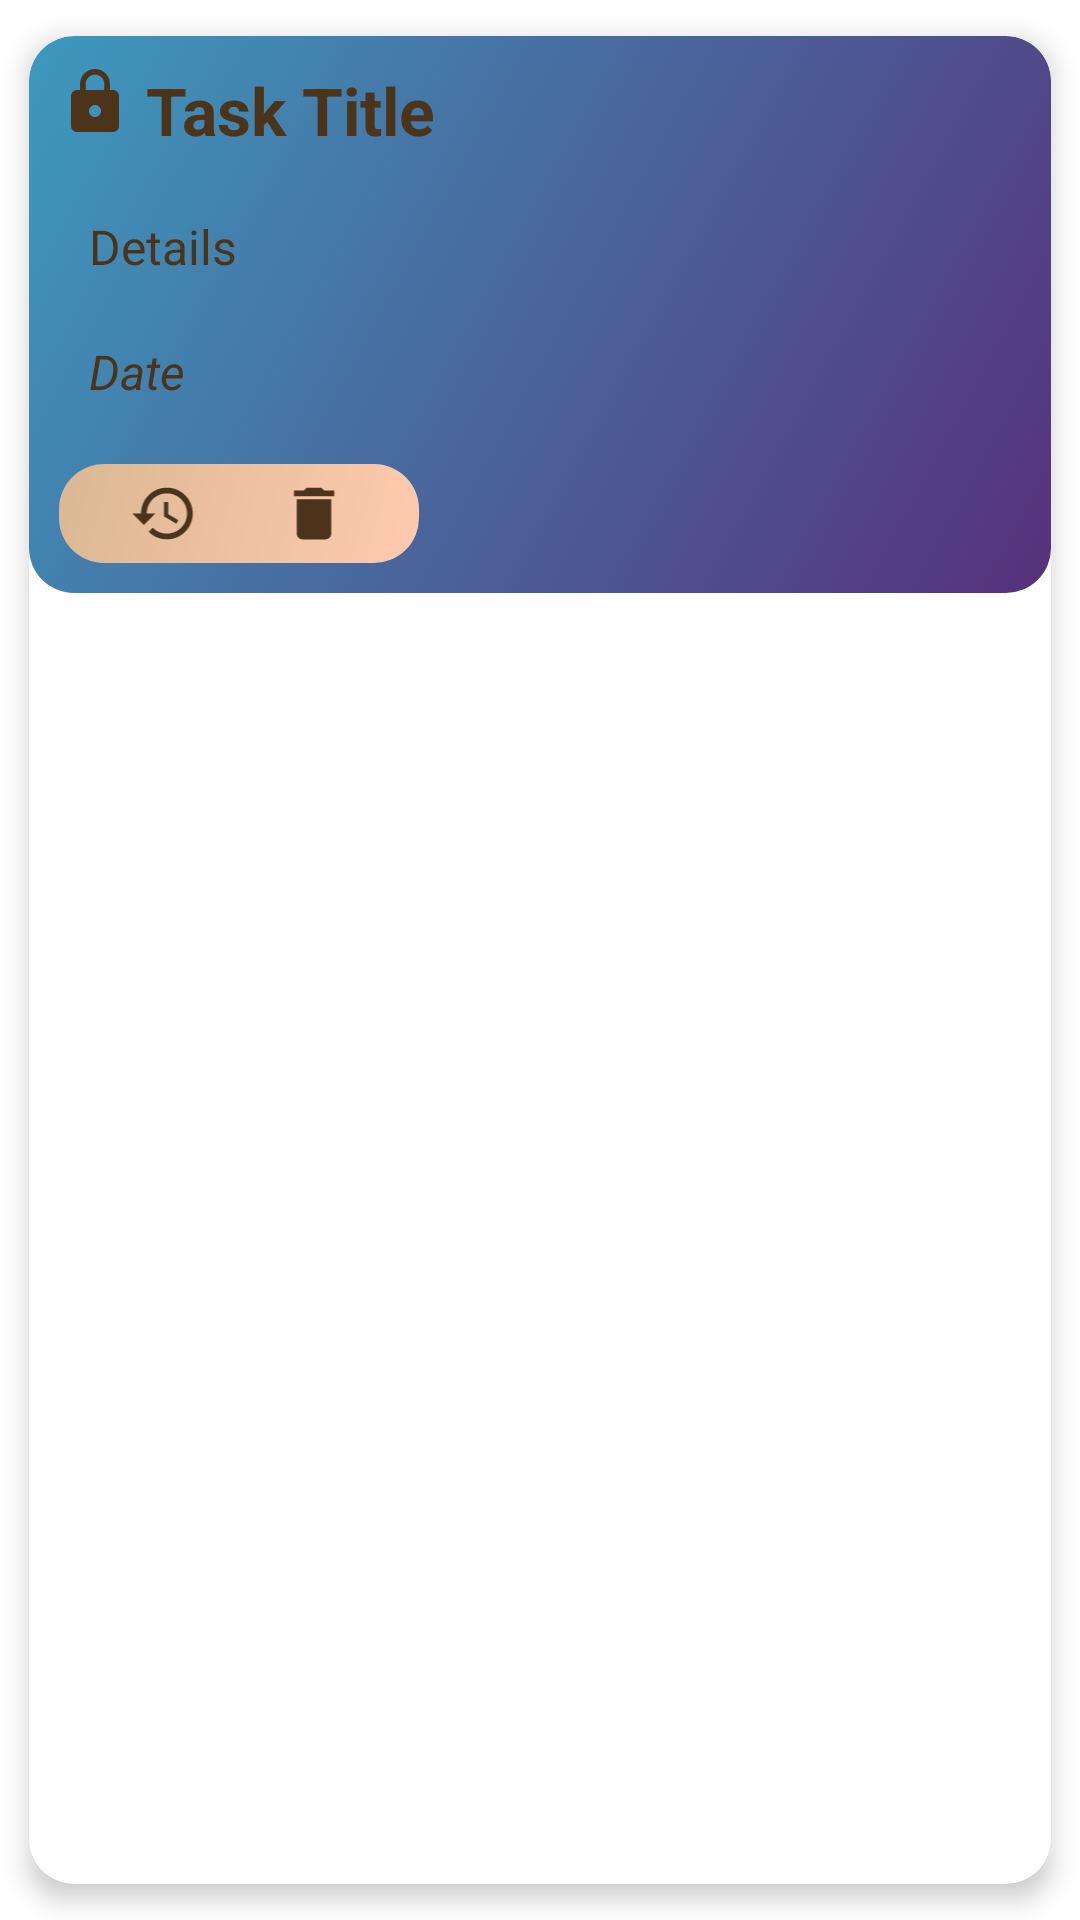

Screen size 1080x1920. Icon name, then its box in pixels as (x1, y1, x2, y2):
delete: (293, 487, 335, 540)
lock: (71, 69, 119, 132)
restore: (132, 487, 193, 540)
